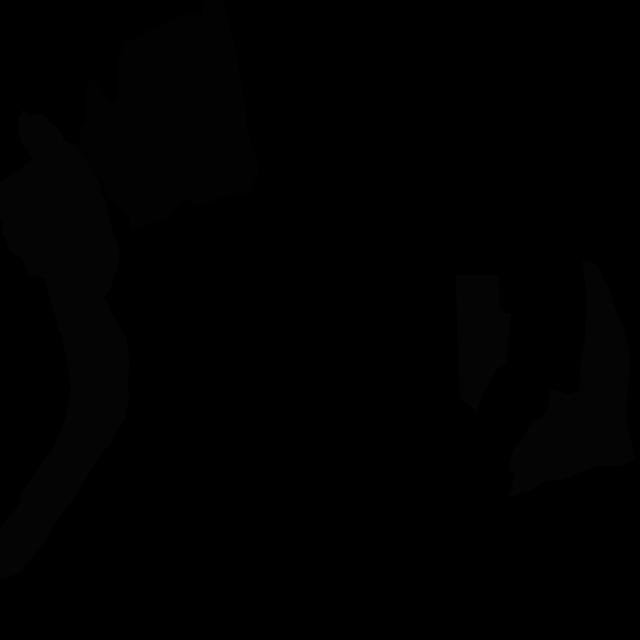cardboard: (118, 0, 258, 231), (78, 57, 183, 218)
soft_plastic: (0, 109, 130, 579), (507, 261, 636, 497), (456, 275, 512, 412)
